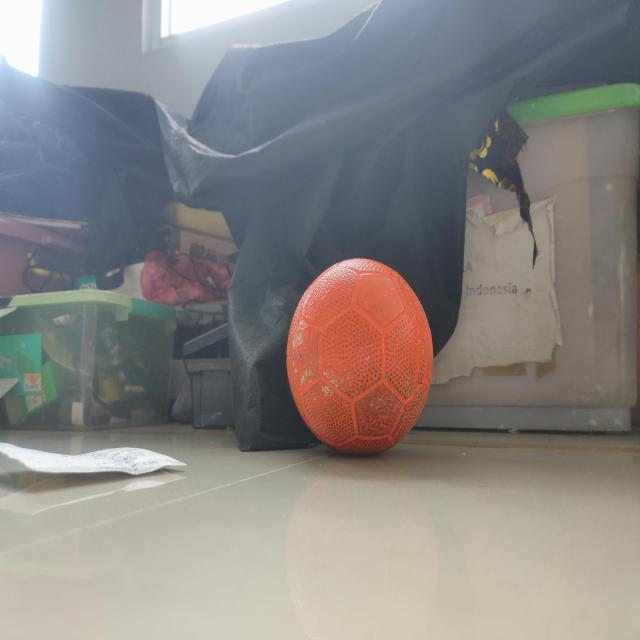bola: (265, 245, 440, 490)
